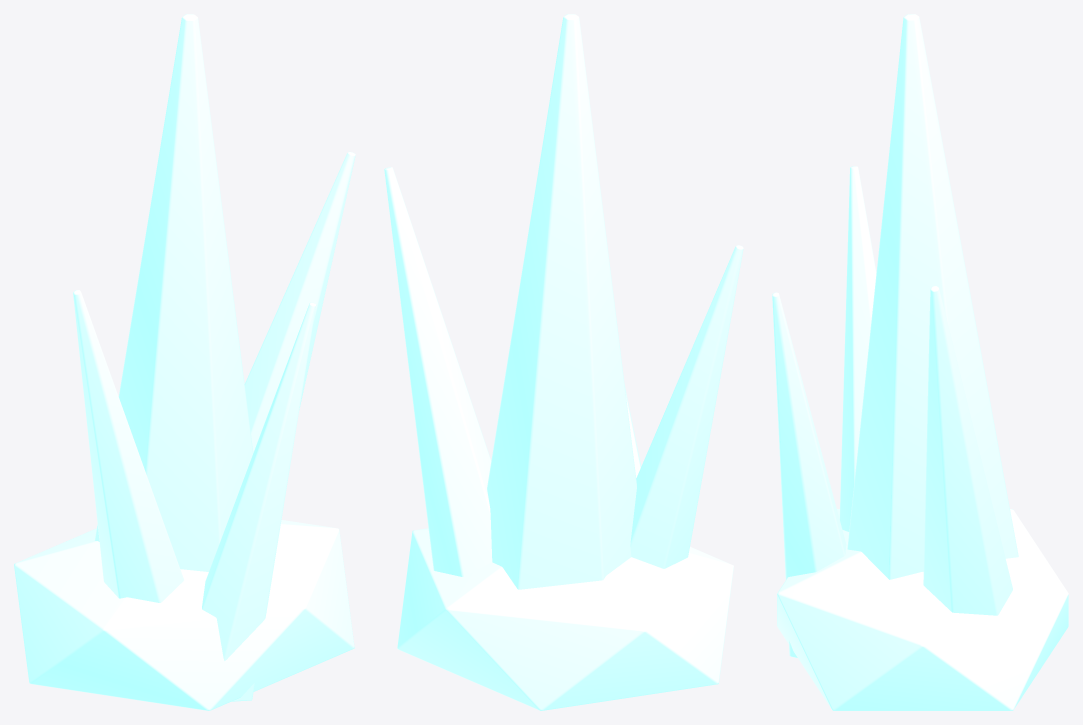
Rendered from crystal_small.glb.
3 renders of one model, left to right at view 1: azimuth 30°, elevation 25°; view 2: azimuth 150°, elevation 25°; view 3: azimuth 270°, elevation 25°, orthographic.
Visible parts, largest first — view 1: crystal_small; view 2: crystal_small; view 3: crystal_small.
Part boxes in pixels (x1=…): crystal_small: x1=14, y1=14, x2=355, y2=710; crystal_small: x1=384, y1=14, x2=743, y2=710; crystal_small: x1=772, y1=14, x2=1068, y2=710.
Size of the model in its own units: 0.7278 by 1.43 by 0.5638.
